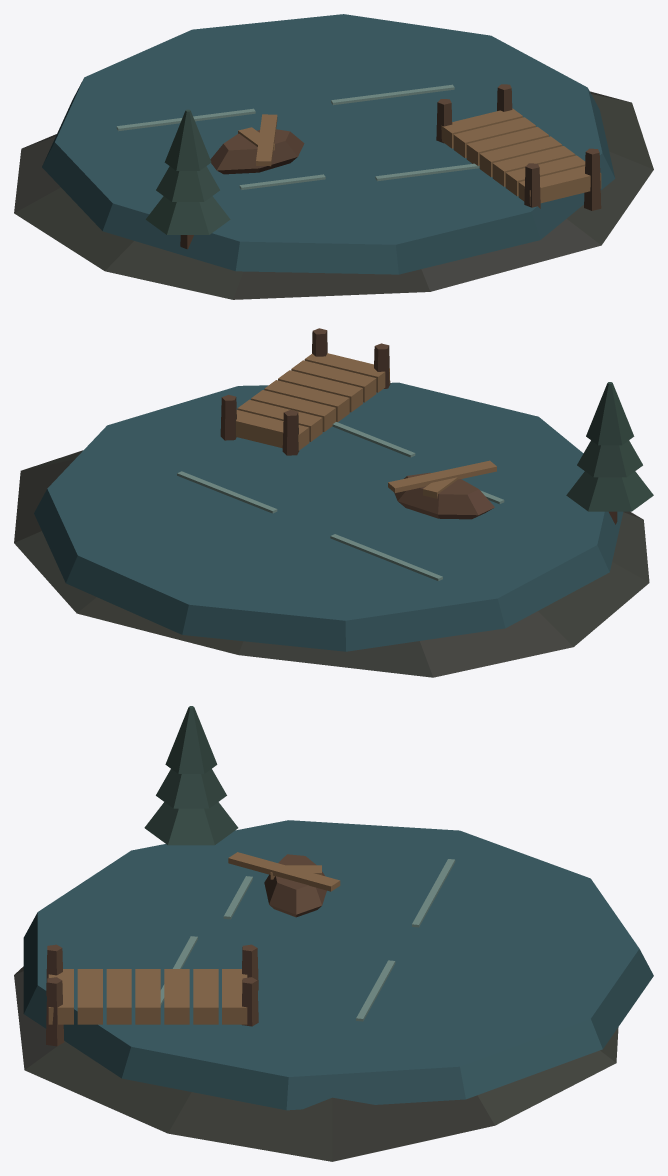
File: lake.glb
3 renders of one model, top to bottom at view 1: azimuth 30°, elevation 25°; view 2: azimuth 150°, elevation 25°; view 3: azimuth 270°, elevation 25°, orthographic. The views are drawn at different scales.
Visible parts, largest first — view 1: Lake Zarovich · atlas landmark; view 2: Lake Zarovich · atlas landmark; view 3: Lake Zarovich · atlas landmark.
Part boxes in pixels (<box>): Lake Zarovich · atlas landmark: <box>14,14,653,299</box>; Lake Zarovich · atlas landmark: <box>14,328,653,677</box>; Lake Zarovich · atlas landmark: <box>14,706,653,1161</box>.
Size of the model in its own units: 2.04 by 0.61 by 1.77.
